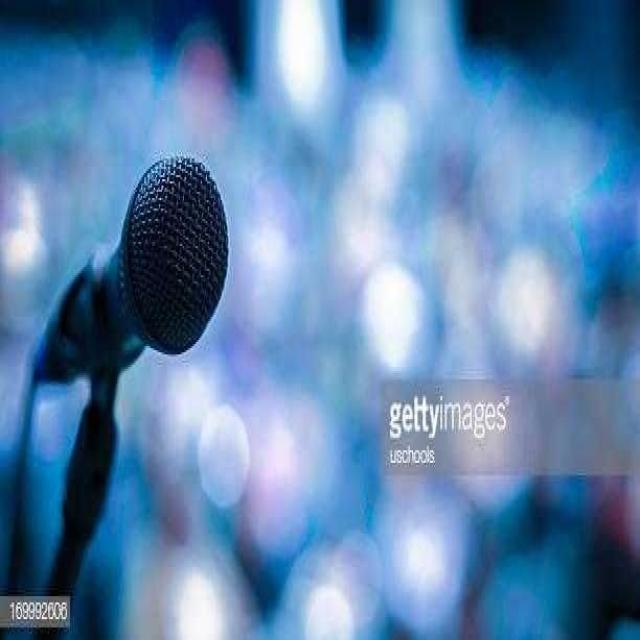microphone: (34, 146, 236, 404)
